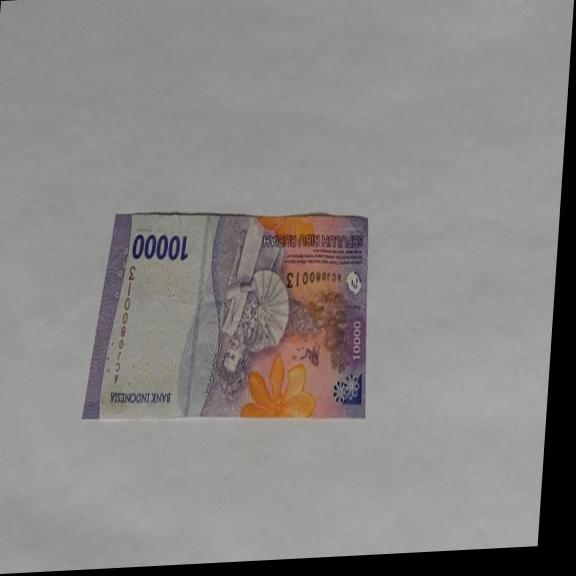Kertas: (80, 199, 380, 434), (130, 229, 190, 265)
